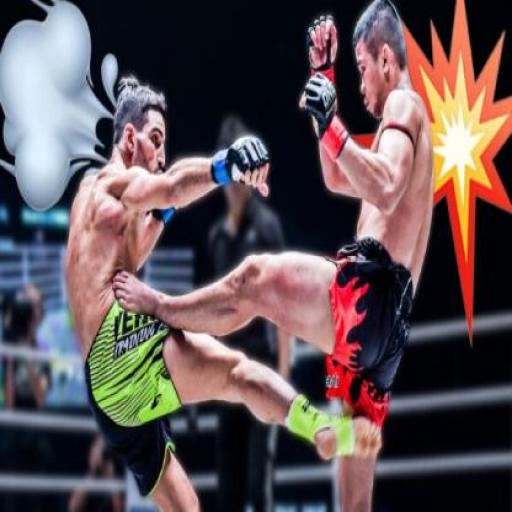Fighting: (61, 3, 426, 512)
